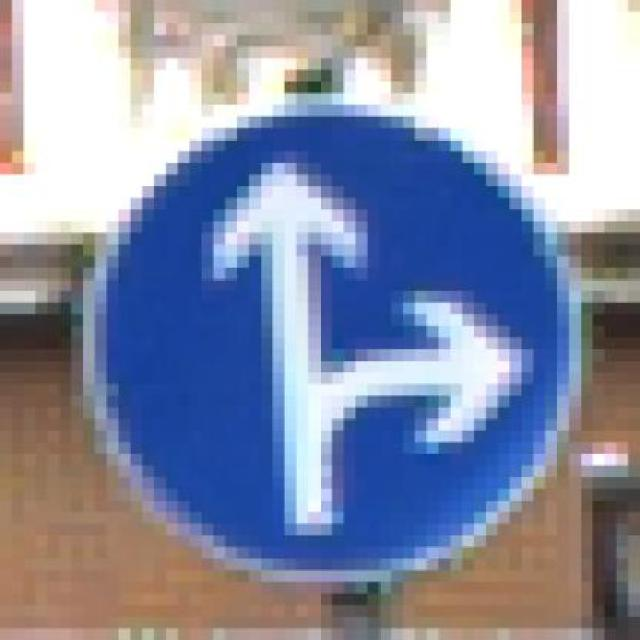Go Straight or Turn Right: (71, 81, 592, 582)
